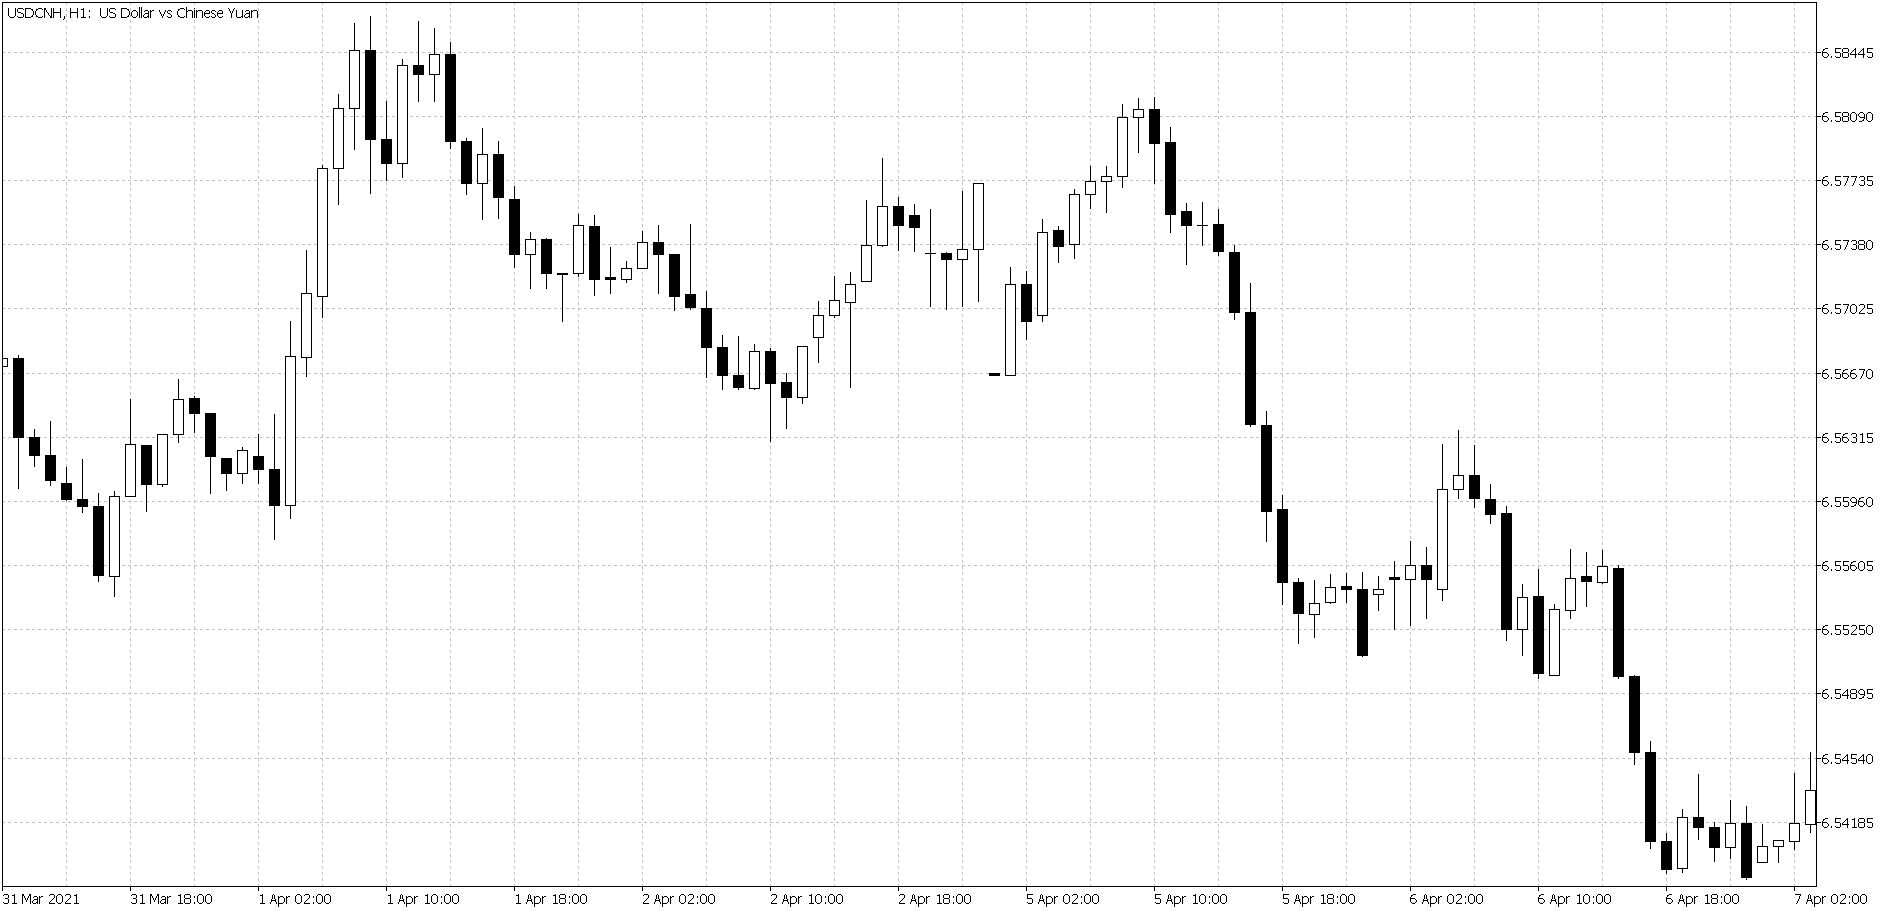3blackcrows: (1611, 564, 1658, 857)
eveningStar: (1115, 77, 1162, 202)
